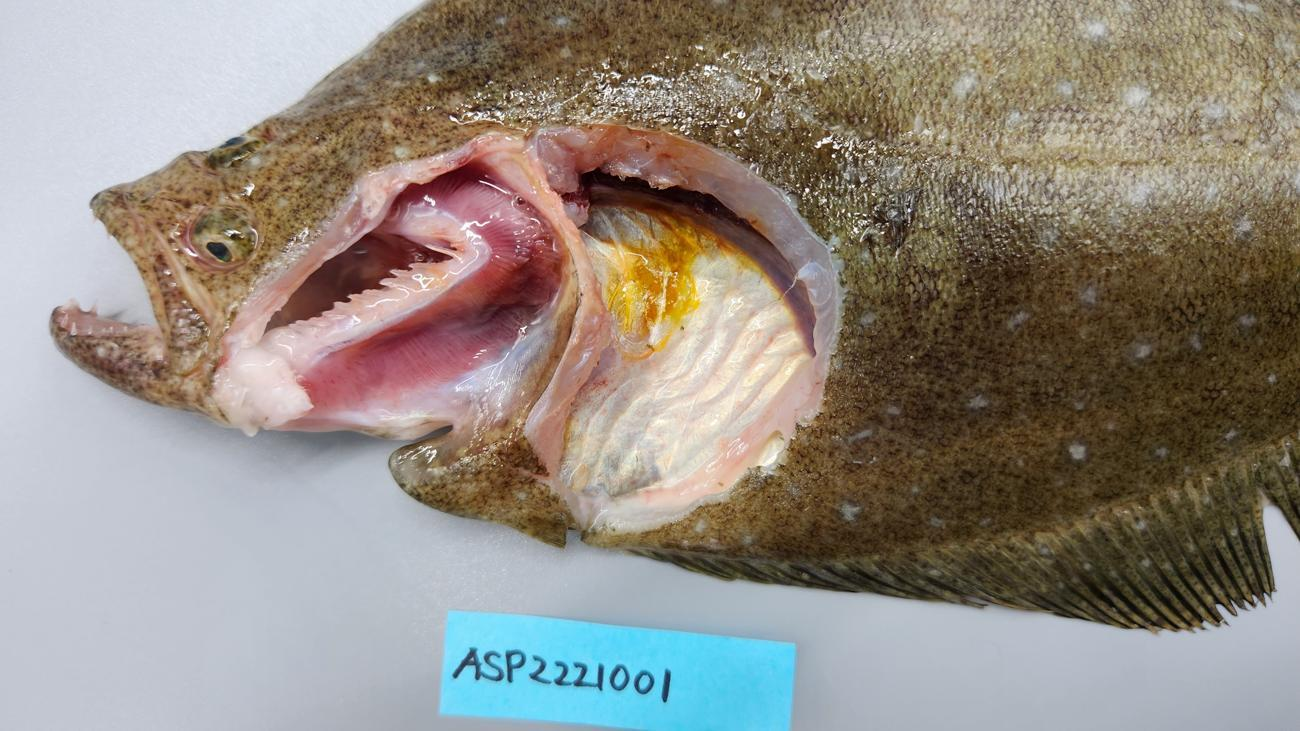SPASQ: (560, 201, 812, 496)
